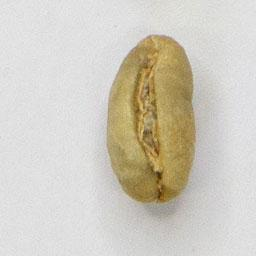longberry: (102, 29, 200, 207)
